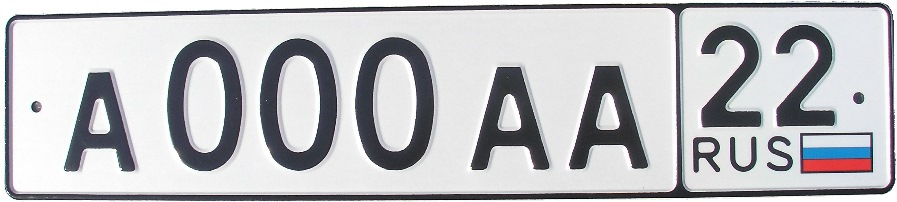number_plate: (13, 5, 885, 194)
